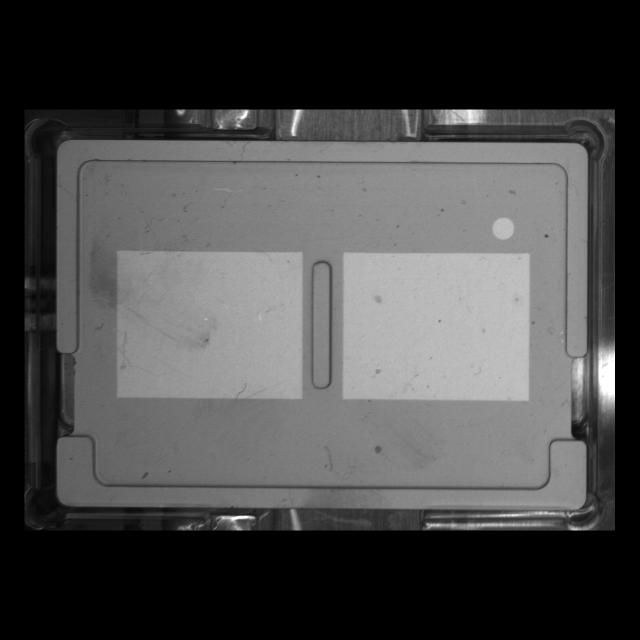door: (44, 418, 607, 526)
point: (484, 208, 524, 248)
